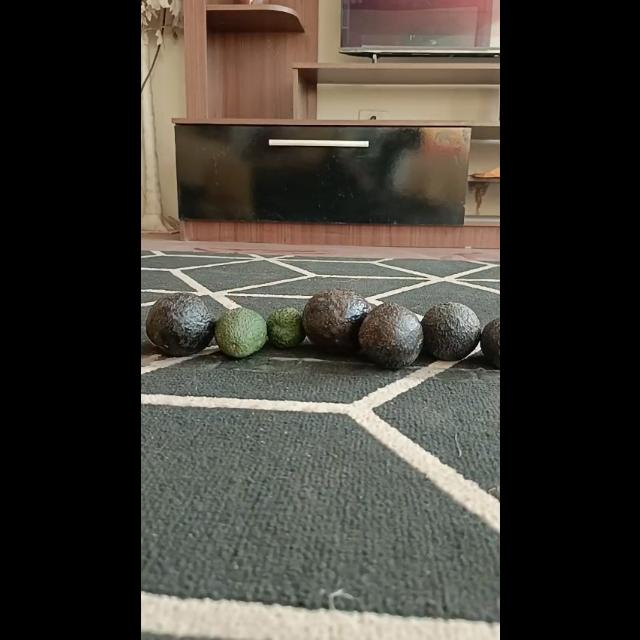Primera: (302, 288, 372, 354), (356, 302, 422, 370), (144, 294, 214, 356), (420, 302, 480, 361)
Segunda: (214, 307, 266, 358)
Tercera: (265, 307, 303, 348)
